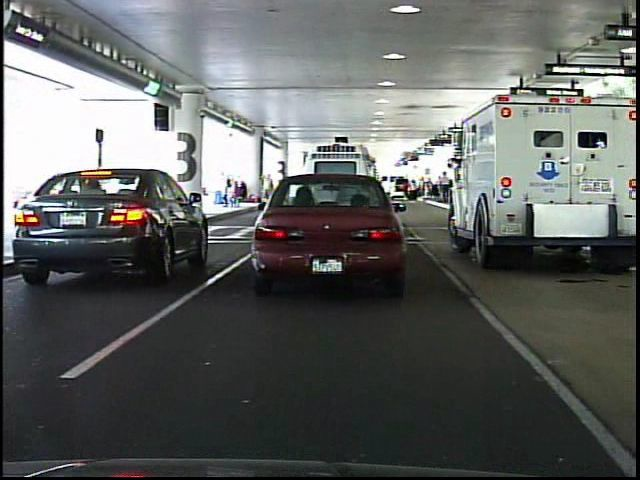person: (259, 171, 275, 206)
